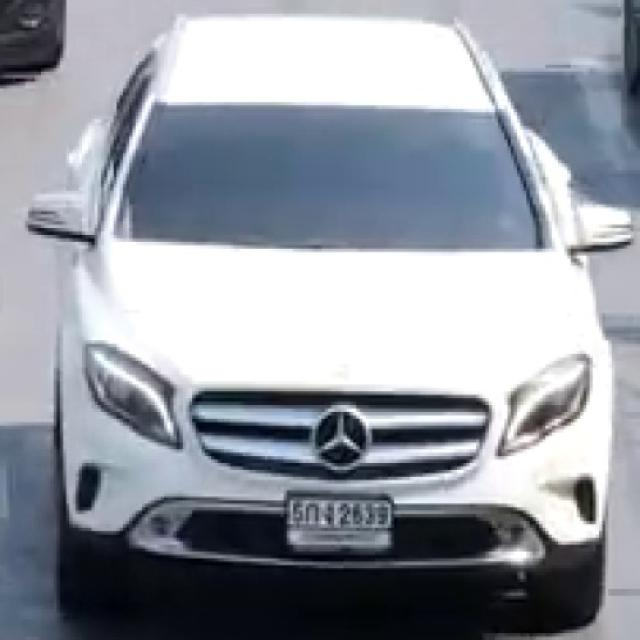plate: (285, 492, 396, 557)
